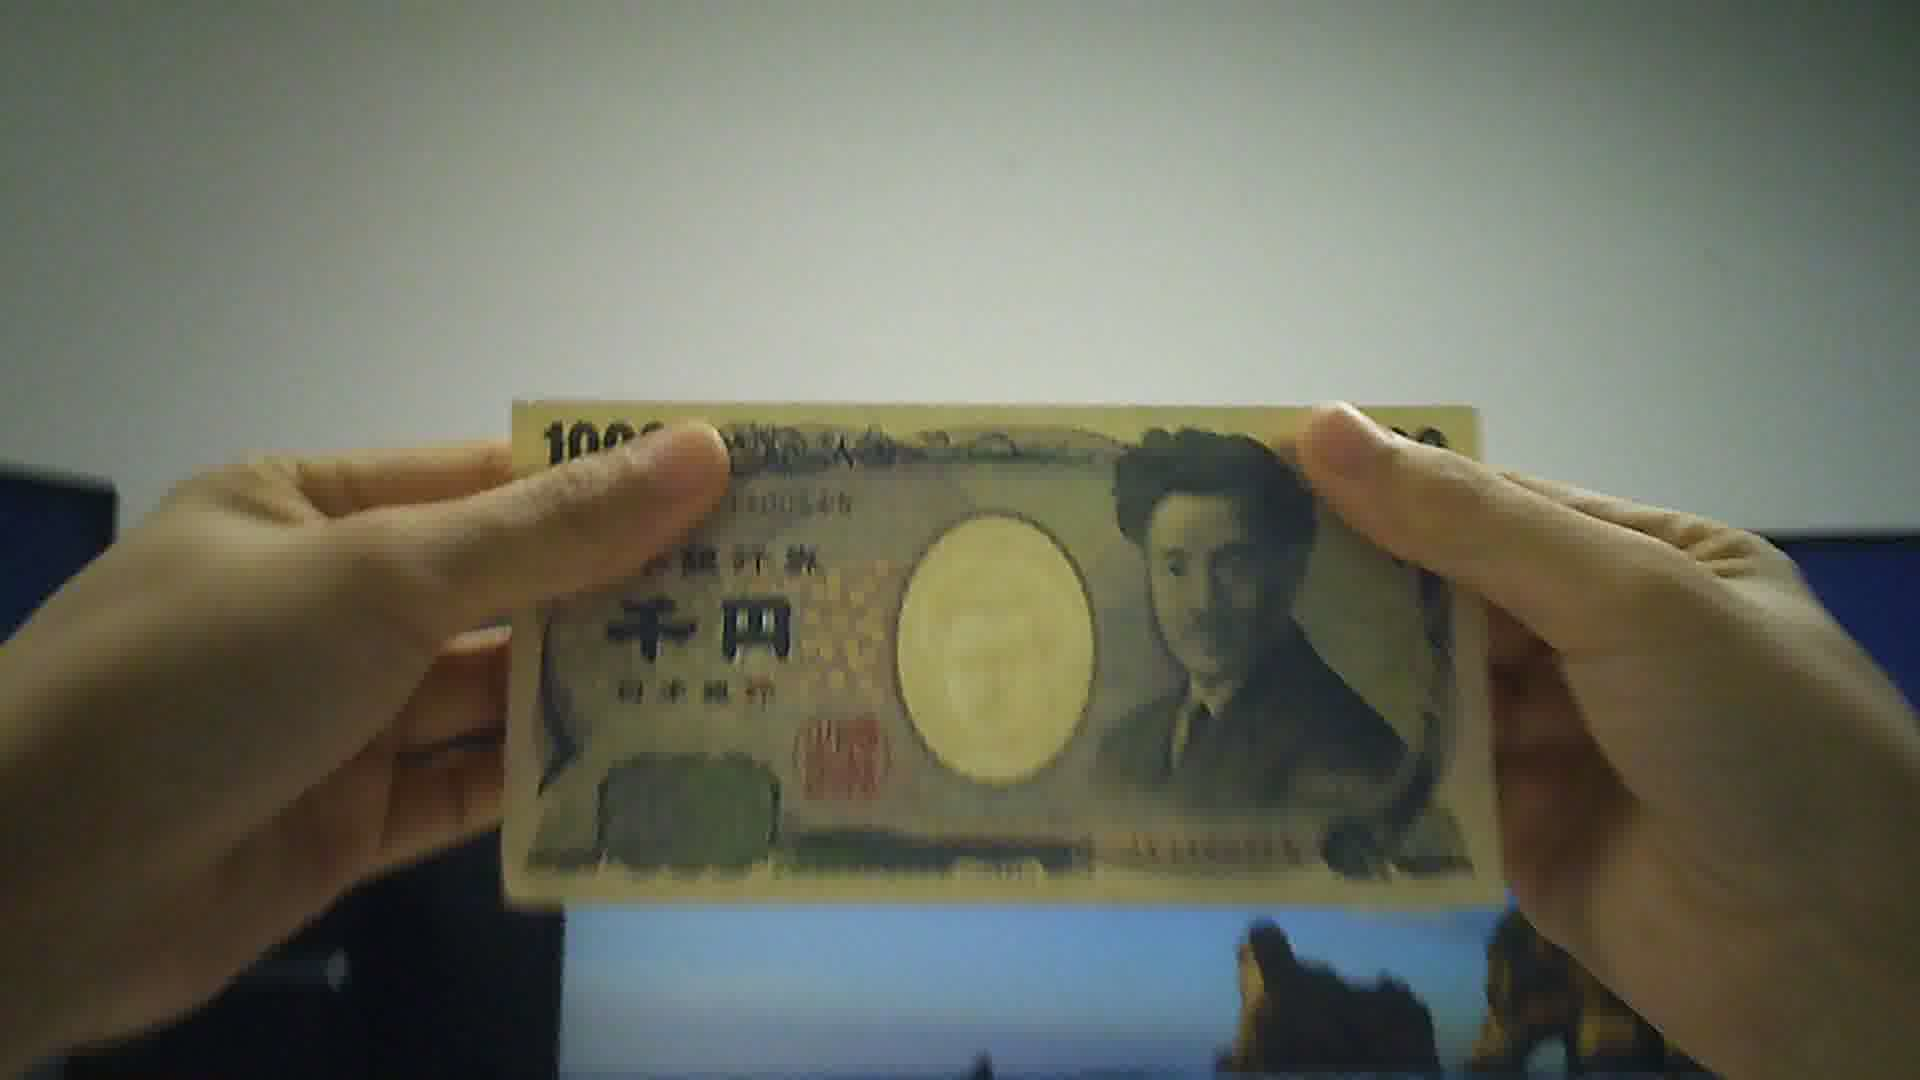1,000 Yen: (518, 376, 1520, 919)
